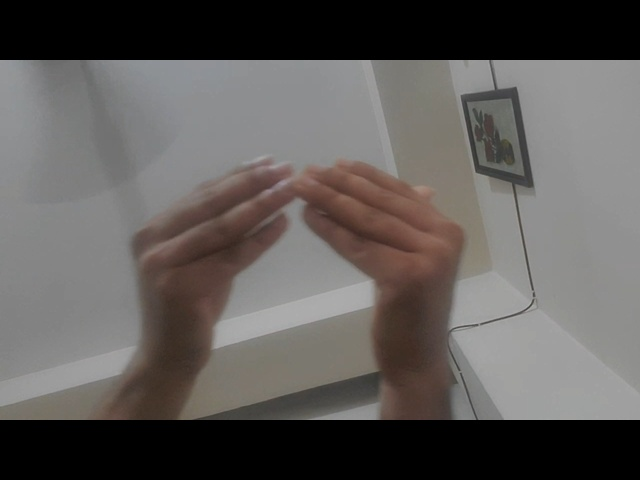Thank you: (99, 141, 492, 411)
